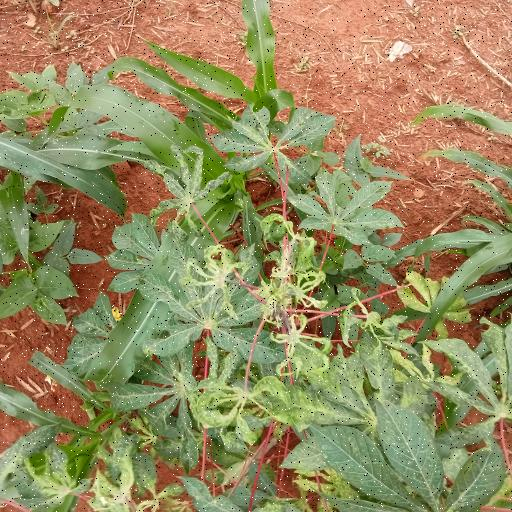Cassava_Mosaic: (318, 409, 504, 512), (140, 253, 282, 362), (120, 370, 232, 461), (140, 147, 230, 231), (215, 107, 331, 170), (290, 172, 398, 238)
